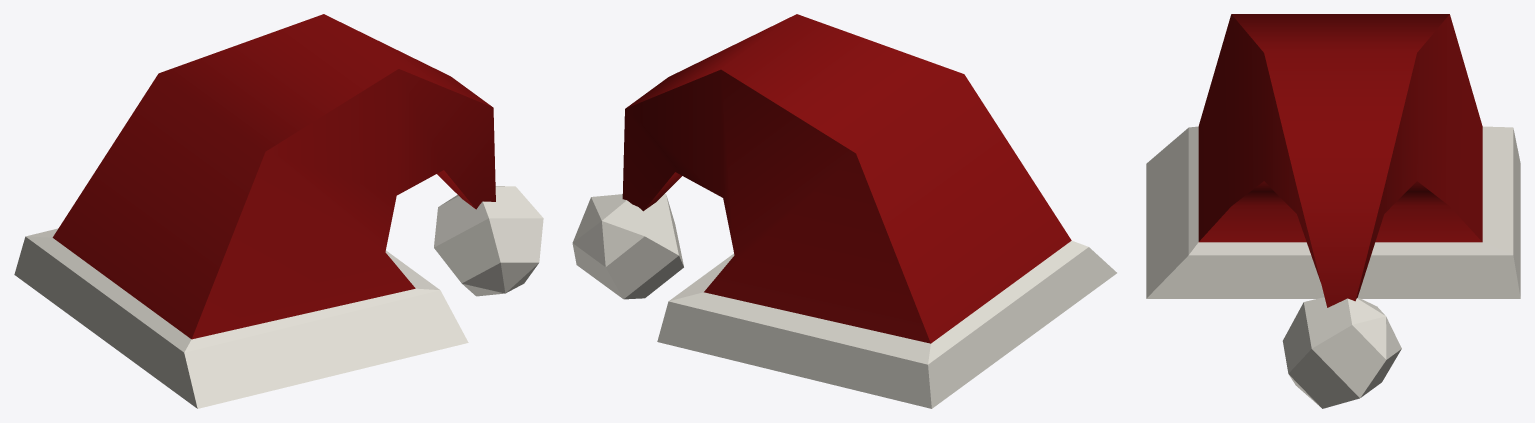
Rendered from santahat.fbx.
3 renders of one model, left to right at view 1: azimuth 30°, elevation 25°; view 2: azimuth 150°, elevation 25°; view 3: azimuth 270°, elevation 25°, orthographic. The views are drawn at different scales.
Visible parts, largest first — view 1: pSphere2; view 2: pSphere2; view 3: pSphere2.
Part boxes in pixels (<box>): pSphere2: <box>14,14,543,408</box>; pSphere2: <box>572,14,1116,408</box>; pSphere2: <box>1146,14,1520,408</box>.
Size of the model in its own units: 4.47 by 2.8 by 3.3.
